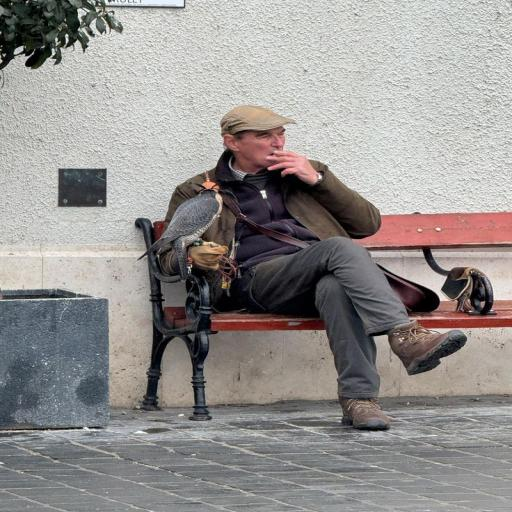crosswalk: (161, 105, 466, 430)
trash_bin: (135, 212, 512, 420)
